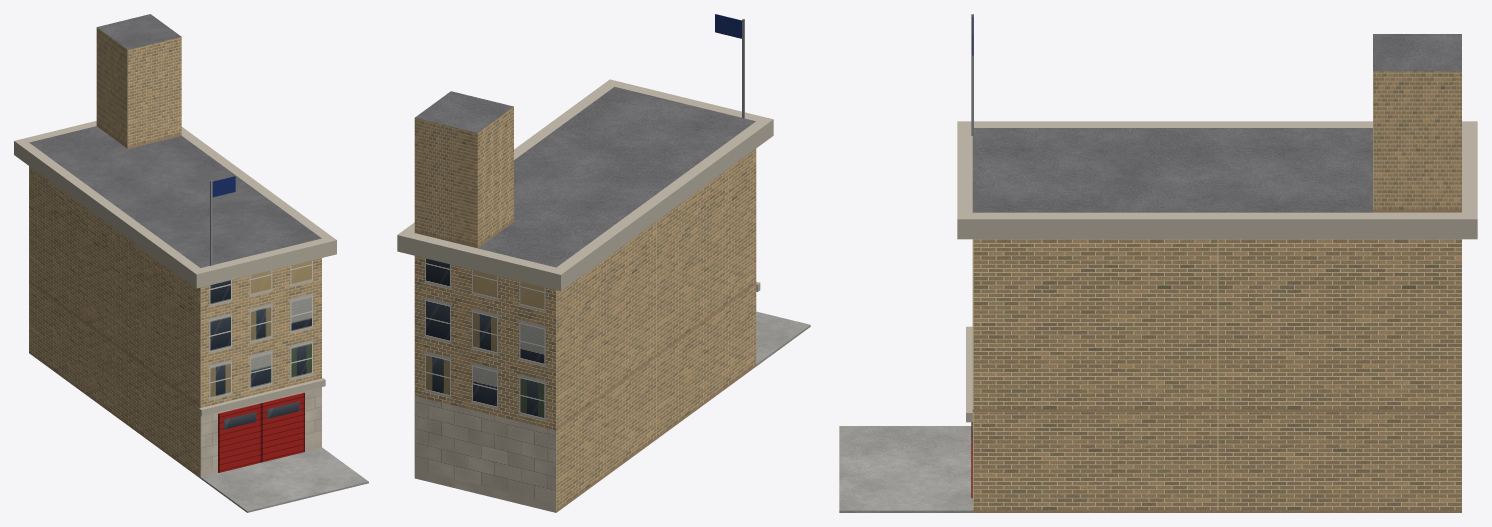
Rendered from 072_firehouse_small.glb.
The picture shows the model from 3 angles, left to right: view 1: azimuth 30°, elevation 25°; view 2: azimuth 150°, elevation 25°; view 3: azimuth 270°, elevation 25°; orthographic projection. The views are drawn at different scales.
Visible parts, largest first — view 1: 072_firehouse_small; view 2: 072_firehouse_small; view 3: 072_firehouse_small.
Part boxes in pixels (box(x1,y1,x2,y2)): 072_firehouse_small: box(14, 14, 368, 512); 072_firehouse_small: box(397, 14, 810, 512); 072_firehouse_small: box(839, 14, 1477, 512).
Size of the model in its own units: 10.4 by 21.9 by 28.7.
Materials: 9 (6 with a texture image).
